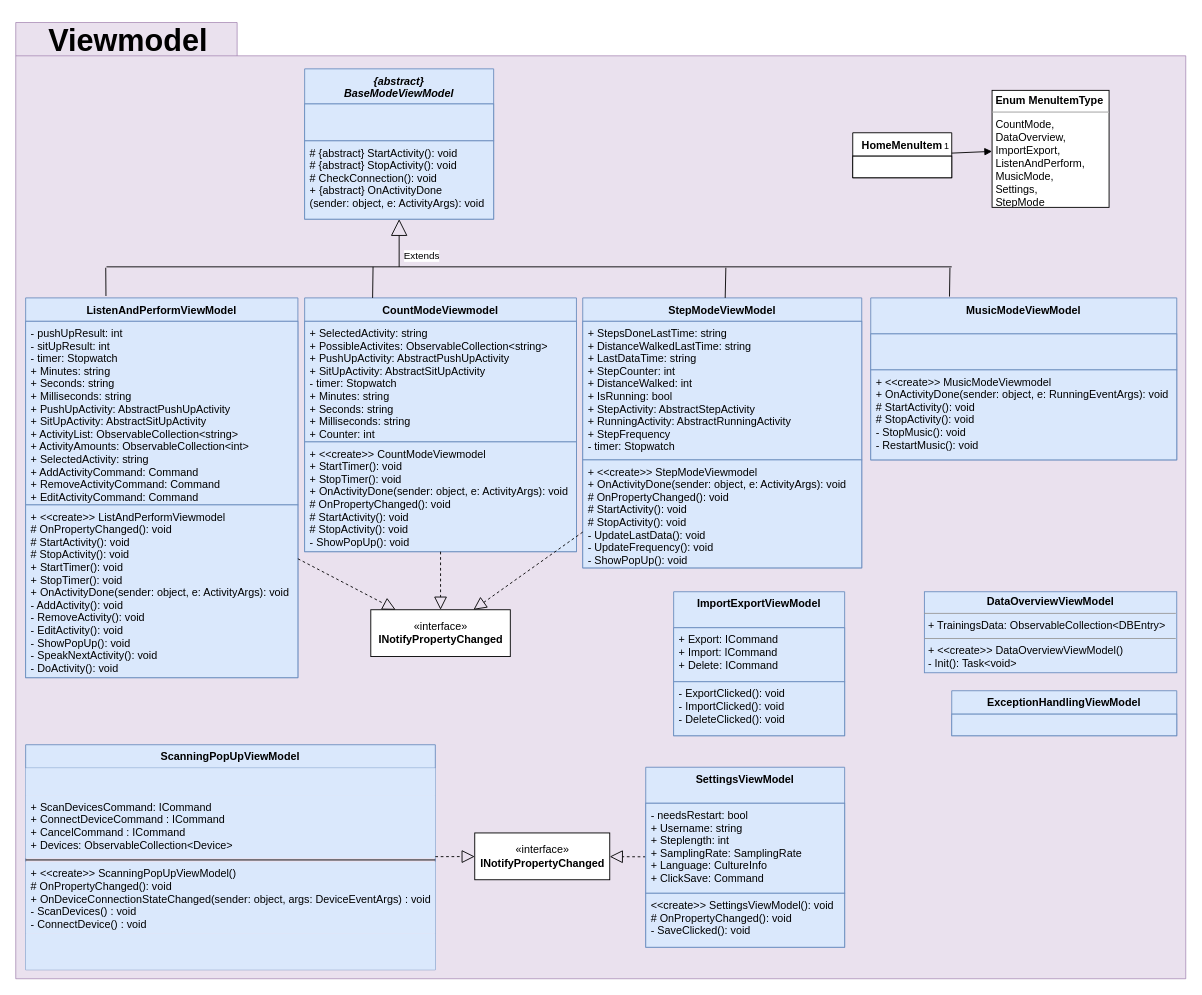
Image size: 1202x995. Some labels were removed from this diagram. Each missing label, with the centre of its shape:
"+ HandleException(error : Exception) : void" goes at (1064,724).
"+ ShowPopUp() : void + HidePopUp() : void" goes at (230,951).
"+ StartActivityCommand: ICommand + StopActivityCommand: ICommand" goes at (399,122).
"+ Title: string" goes at (902,166).
"+IsConnected : bool" goes at (230,781).
"- isRunning: bool + RunningActivity: AbstractRunningActivity" goes at (1023,351).
